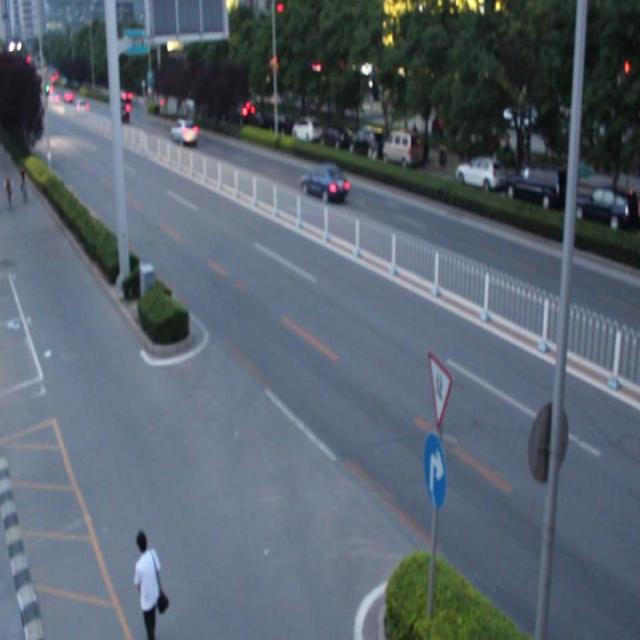car: (300, 162, 348, 204)
